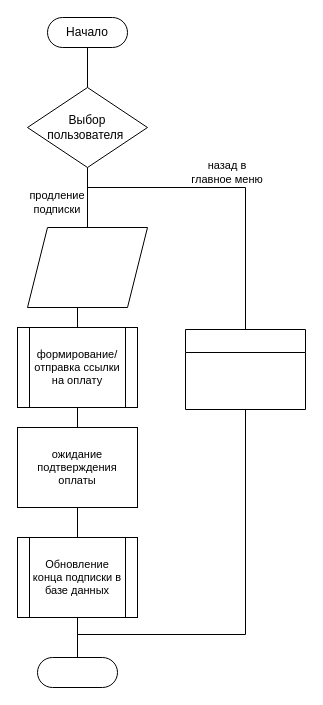
Some shapes in this 323 by 705 pixel diagram are drawn without their labels. The centre of each missing label's shape, as x and y in pixels:
"Menu" goes at point 245,369.
"Конец" goes at point 77,672.
"получаем срок продления 1 день/неделя /месяц" goes at point 87,267.
